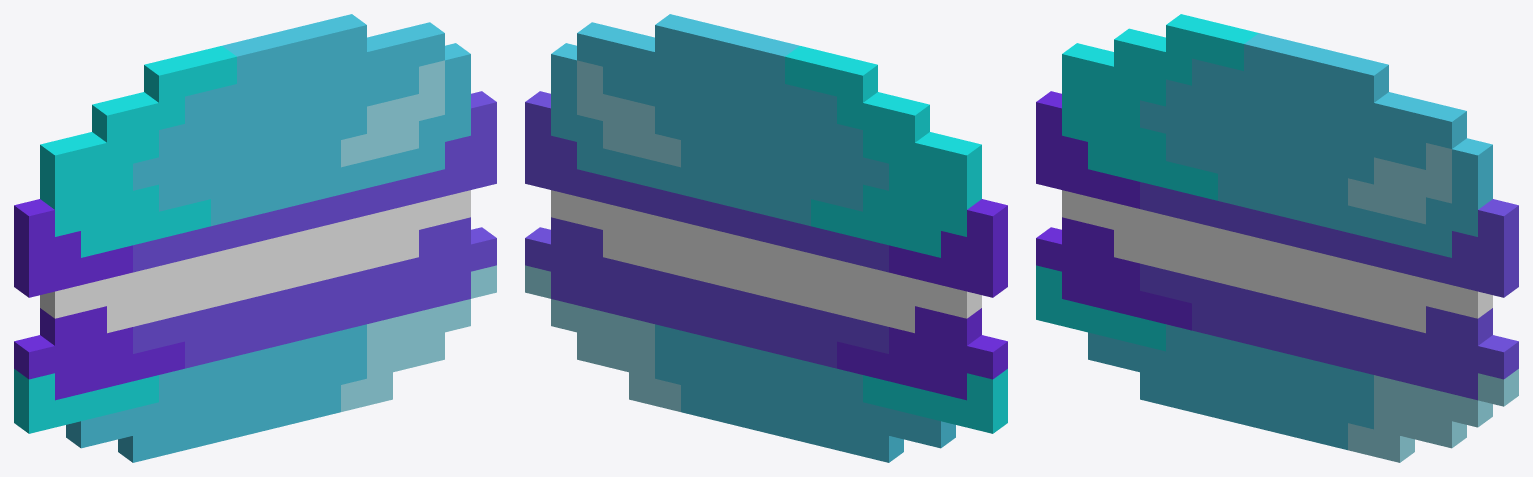
Rendered from p_macaron_voxel.fbx.
3 views of the same model, side by side, from view 1: azimuth 30°, elevation 25°; view 2: azimuth 150°, elevation 25°; view 3: azimuth 330°, elevation 25° (orthographic).
Parts seen in each view (by area): view 1: Macaron.voxel.210, Macaron.voxel.213, Macaron.voxel.216, Macaron.voxel.164, Macaron.voxel.189, Macaron.voxel.212, Macaron.voxel.204, Macaron.voxel.209, Macaron.voxel.211, Macaron.voxel.215, Macaron.voxel.214, Macaron.voxel.066 (+204 smaller); view 2: Macaron.voxel.210, Macaron.voxel.213, Macaron.voxel.216, Macaron.voxel.164, Macaron.voxel.189, Macaron.voxel.212, Macaron.voxel.204, Macaron.voxel.209, Macaron.voxel.211, Macaron.voxel.215, Macaron.voxel.214, Macaron.voxel.066 (+204 smaller); view 3: Macaron.voxel.002, Macaron.voxel.015, Macaron.voxel.005, Macaron.voxel.066, Macaron.voxel.027, Macaron.voxel.001, Macaron.voxel.009, Macaron.voxel.004, Macaron.voxel.014, Macaron.voxel.003, Macaron.voxel.164, Macaron.voxel.052 (+204 smaller).
Boxes of the visible parts, x1=… form: Macaron.voxel.210: x1=40, y1=138, x2=80, y2=182; Macaron.voxel.213: x1=14, y1=335, x2=54, y2=379; Macaron.voxel.216: x1=14, y1=199, x2=54, y2=243; Macaron.voxel.164: x1=144, y1=58, x2=184, y2=102; Macaron.voxel.189: x1=92, y1=98, x2=132, y2=142; Macaron.voxel.212: x1=14, y1=369, x2=54, y2=406; Macaron.voxel.204: x1=40, y1=308, x2=80, y2=345; Macaron.voxel.209: x1=40, y1=172, x2=80, y2=209; Macaron.voxel.211: x1=14, y1=396, x2=54, y2=433; Macaron.voxel.215: x1=14, y1=233, x2=54, y2=270; Macaron.voxel.214: x1=14, y1=260, x2=54, y2=297; Macaron.voxel.066: x1=326, y1=14, x2=366, y2=58; Macaron.voxel.210: x1=941, y1=138, x2=981, y2=182; Macaron.voxel.213: x1=967, y1=335, x2=1007, y2=379; Macaron.voxel.216: x1=967, y1=199, x2=1007, y2=243; Macaron.voxel.164: x1=837, y1=58, x2=877, y2=102; Macaron.voxel.189: x1=889, y1=98, x2=929, y2=142; Macaron.voxel.212: x1=967, y1=369, x2=1007, y2=406; Macaron.voxel.204: x1=941, y1=308, x2=981, y2=345; Macaron.voxel.209: x1=941, y1=172, x2=981, y2=209; Macaron.voxel.211: x1=967, y1=396, x2=1007, y2=433; Macaron.voxel.215: x1=967, y1=233, x2=1007, y2=270; Macaron.voxel.214: x1=967, y1=260, x2=1007, y2=297; Macaron.voxel.066: x1=655, y1=14, x2=695, y2=58; Macaron.voxel.002: x1=1478, y1=335, x2=1518, y2=379; Macaron.voxel.015: x1=1452, y1=138, x2=1492, y2=182; Macaron.voxel.005: x1=1478, y1=199, x2=1518, y2=243; Macaron.voxel.066: x1=1348, y1=58, x2=1388, y2=102; Macaron.voxel.027: x1=1426, y1=104, x2=1466, y2=148; Macaron.voxel.001: x1=1478, y1=369, x2=1518, y2=406; Macaron.voxel.009: x1=1452, y1=308, x2=1492, y2=345; Macaron.voxel.004: x1=1478, y1=233, x2=1518, y2=270; Macaron.voxel.014: x1=1452, y1=172, x2=1492, y2=209; Macaron.voxel.003: x1=1478, y1=260, x2=1518, y2=297; Macaron.voxel.164: x1=1166, y1=14, x2=1206, y2=58; Macaron.voxel.052: x1=1374, y1=92, x2=1414, y2=136.
Size of the model in its own units: 1.79 by 1.39 by 0.0992.
